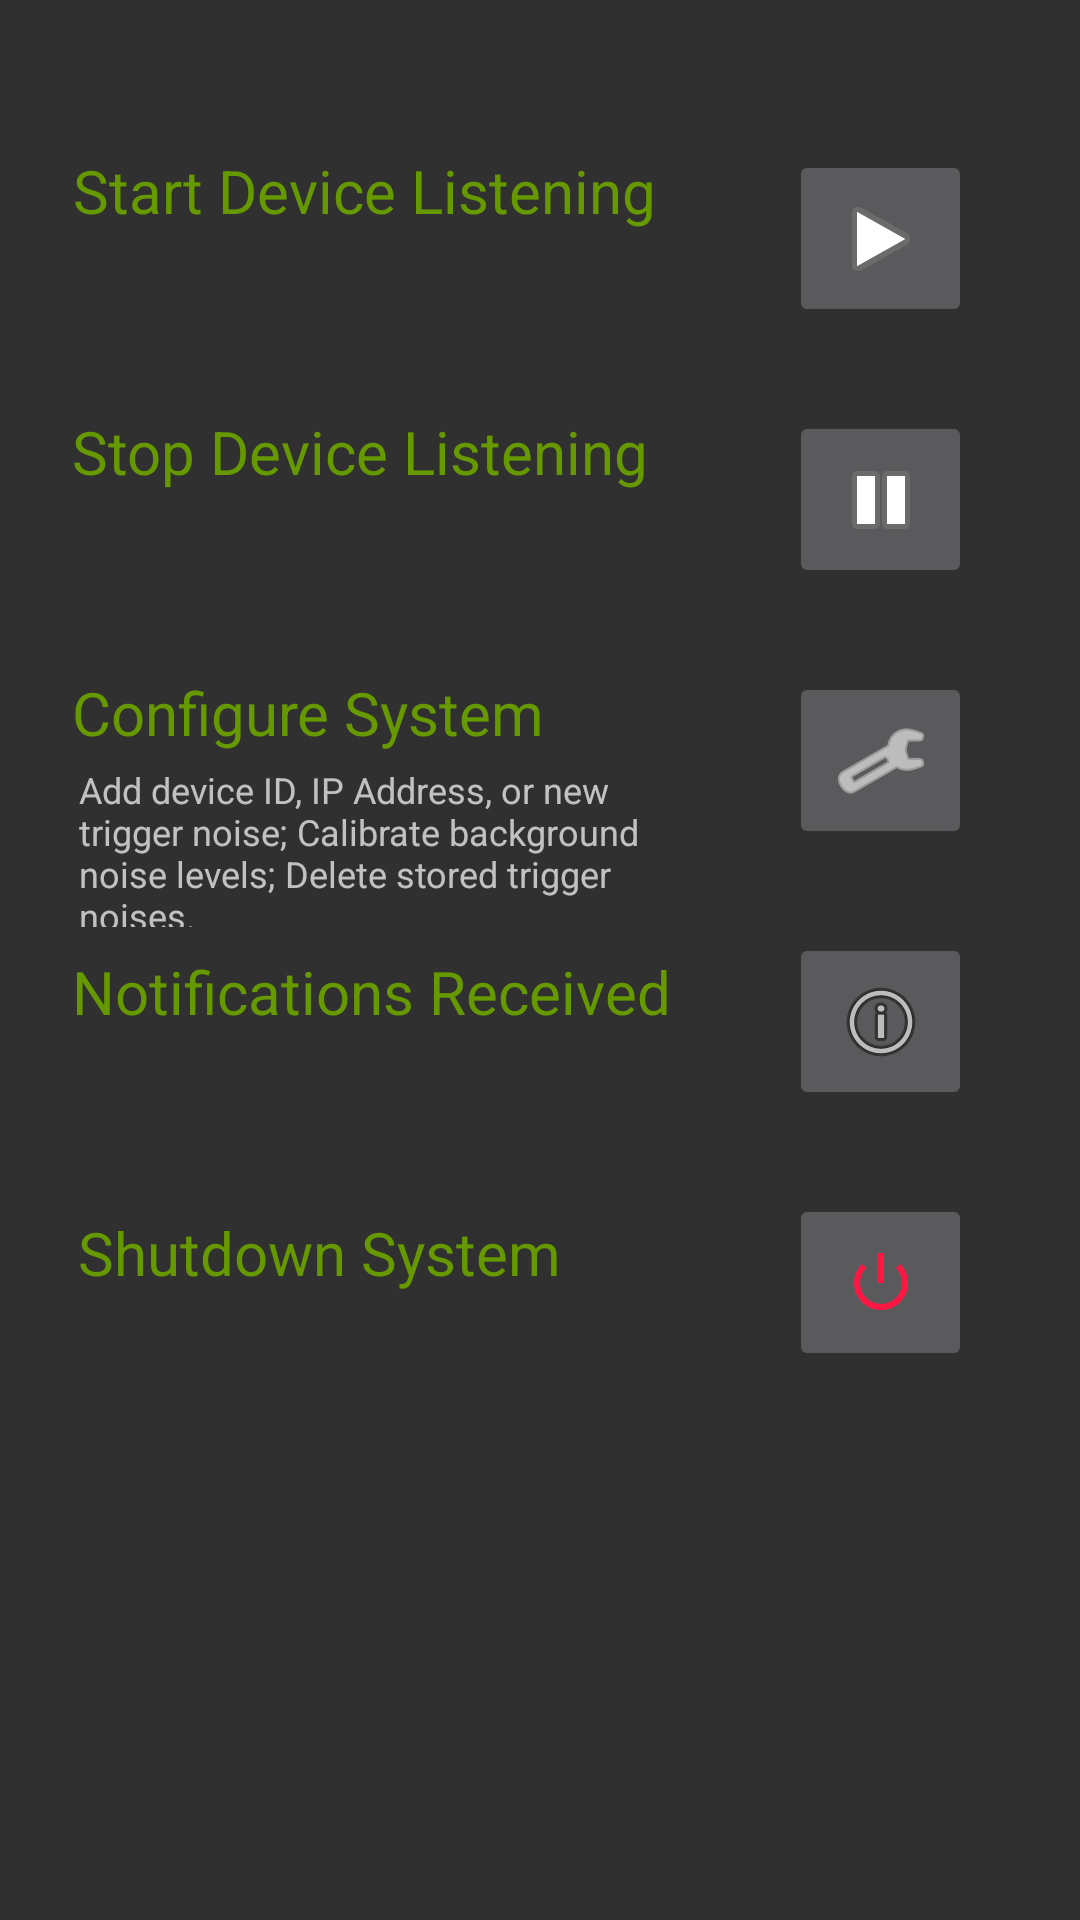

Icon click points for this 1080*1920 phone screenshot, format (x,y):
info details: (880,1021)
pause: (880,499)
play: (880,238)
preferences: (880,760)
System off icon: (880,1282)
